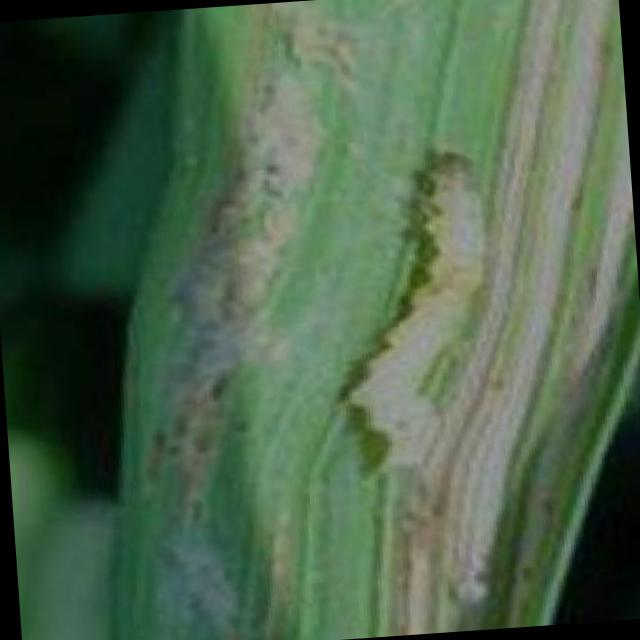leaf-folder: (276, 136, 575, 480)
